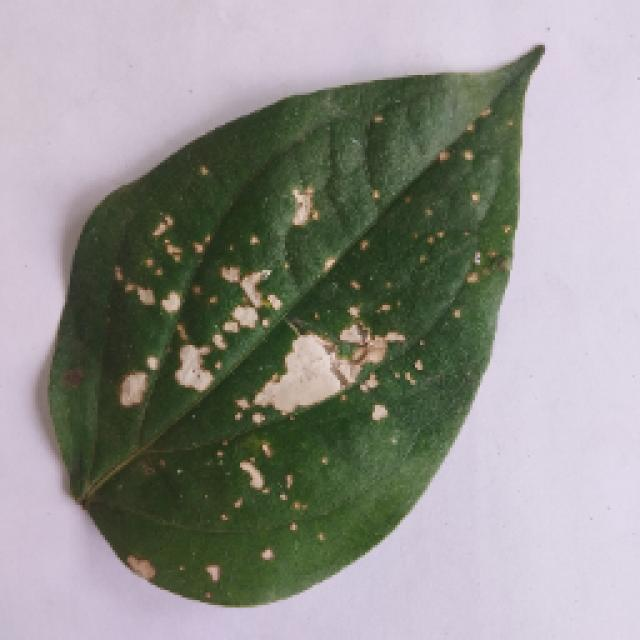pollu-disease: (20, 55, 595, 615)
